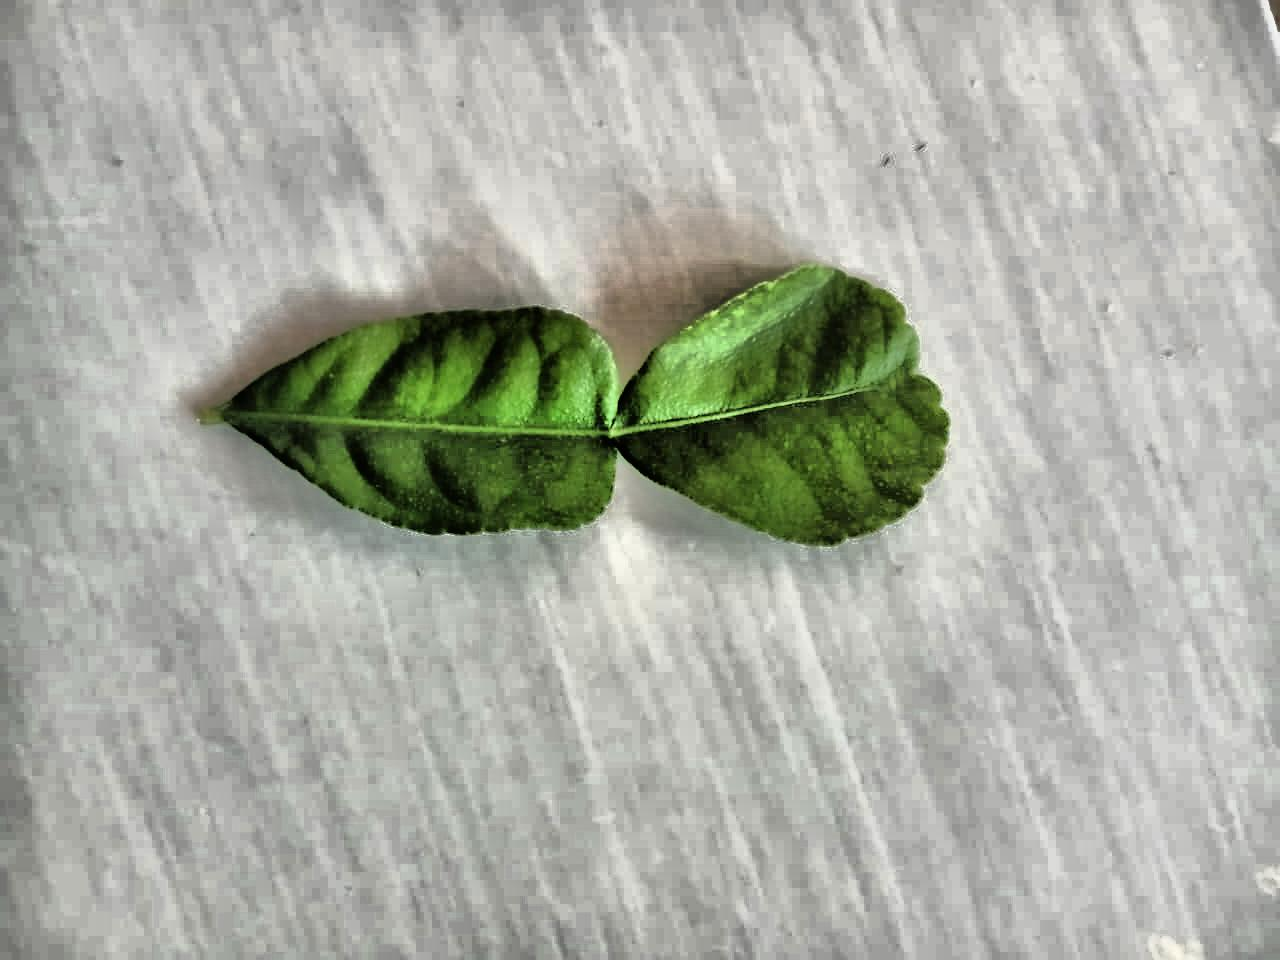daun jeruk: (201, 266, 948, 545)
